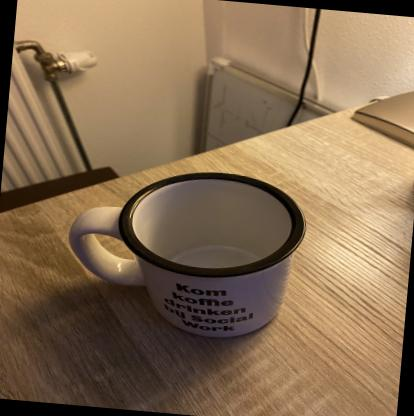Cup: (60, 156, 314, 348)
